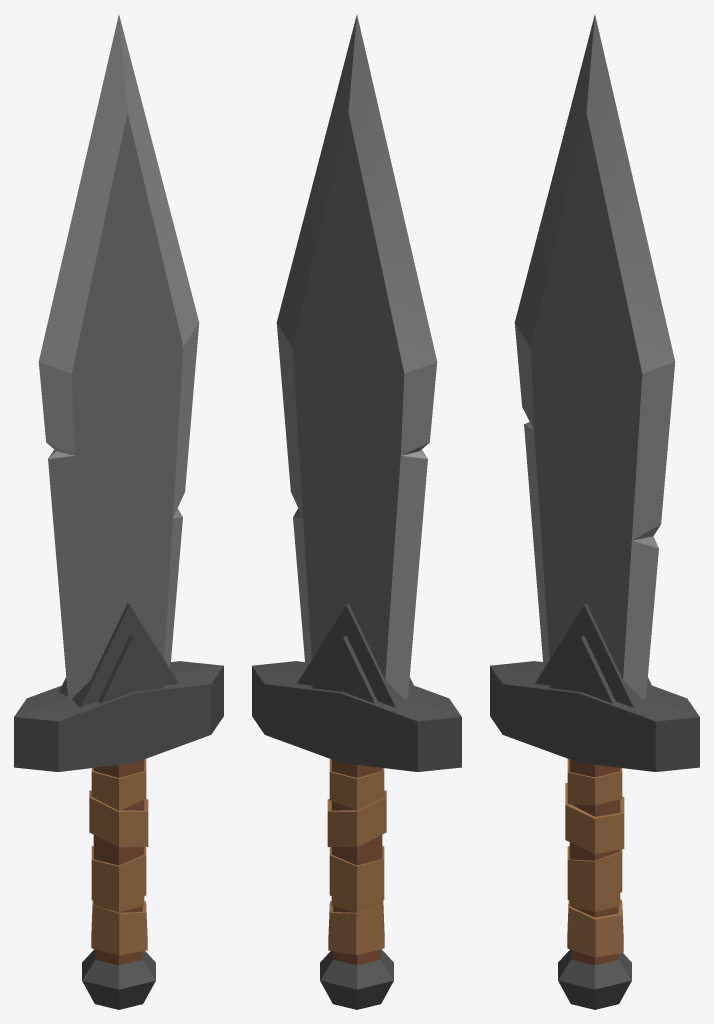
The model's file is Weapon_07.glb.
3 views of the same model, side by side, from view 1: azimuth 30°, elevation 25°; view 2: azimuth 150°, elevation 25°; view 3: azimuth 330°, elevation 25° (orthographic).
Visible parts, largest first — view 1: Weapon_07_LOD0; view 2: Weapon_07_LOD0; view 3: Weapon_07_LOD0.
Boxes of the visible parts, box(x1,y1,x2,y2) form: Weapon_07_LOD0: box(14, 15, 223, 1009); Weapon_07_LOD0: box(252, 15, 461, 1009); Weapon_07_LOD0: box(490, 15, 699, 1009).
Size of what is drawn, in the model's own units: 0.1285 by 0.576 by 0.0392.
Materials: 1 (1 with a texture image).
